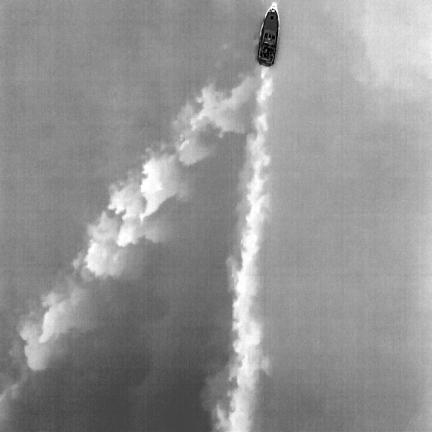flukeprints: (190, 77, 254, 137), (84, 213, 126, 277), (39, 287, 87, 342), (108, 176, 144, 246), (140, 156, 179, 216), (174, 105, 211, 165), (21, 322, 51, 370)
